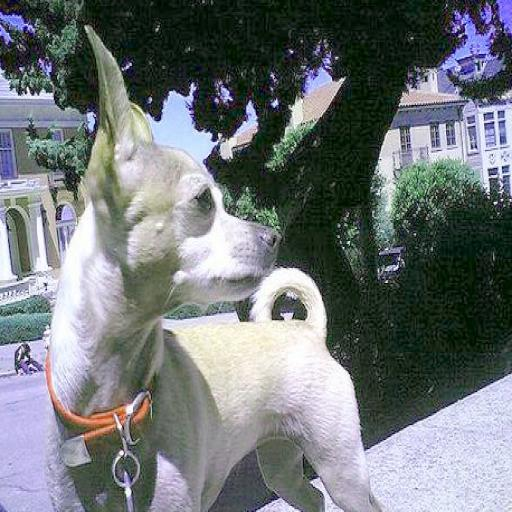dog_face: (78, 35, 281, 314)
